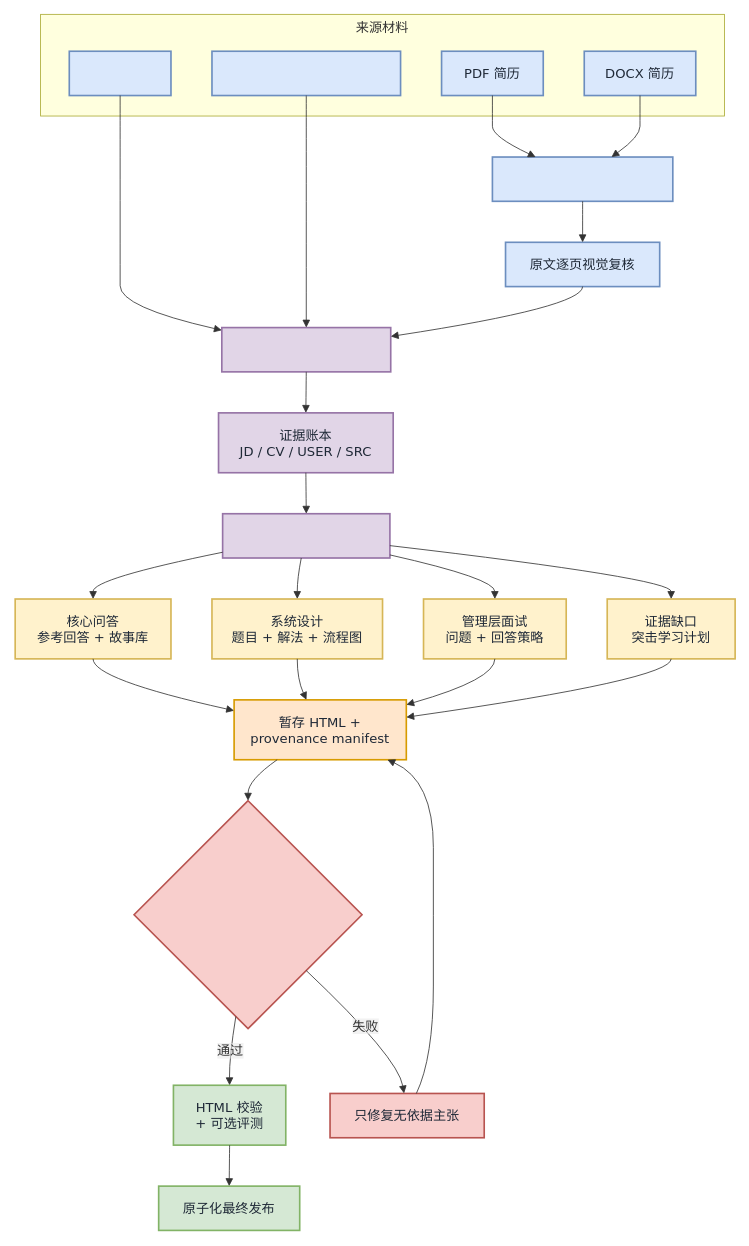
Image size: 749x1246. Some labels were removed from this diagram. The centre of each missing label's shape, as x and y in pixels:
Claim-level Guard 原文跨度 + 哈希 + 规则: (x=247, y=914)
Markdown / 纯文本简历: (x=306, y=73)
岗位－简历匹配矩阵: (x=305, y=535)
带来源定位的内容提取: (x=582, y=179)
职位描述: (x=119, y=73)
输入清单 + 材料审计: (x=306, y=349)
